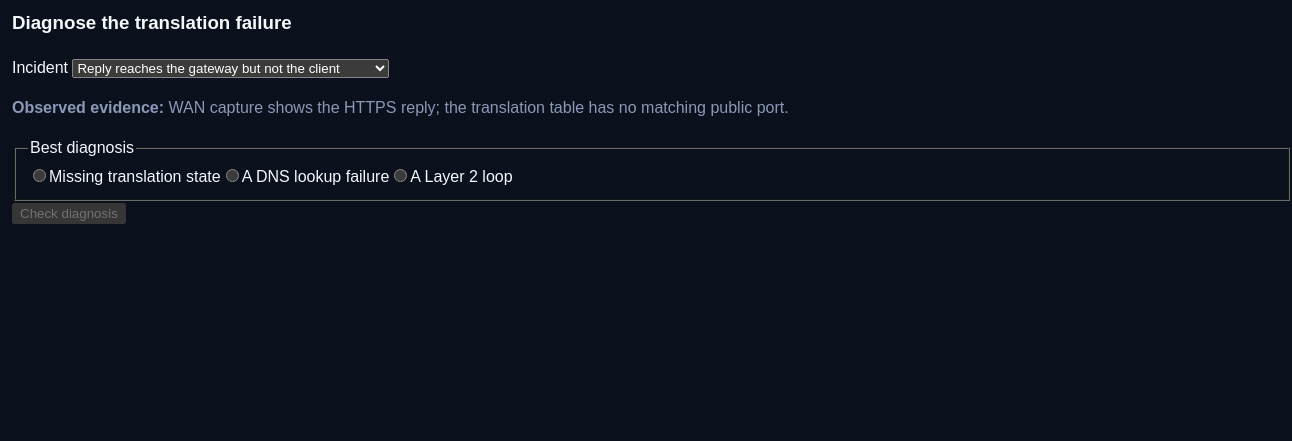
Test: NatTroubleshootingLab › explains evidence, failed assumption, and next verification for any attempted answer
Step 1. Click the radio button labelled "Missing translation state" → (40, 176), box [33,169,46,182]
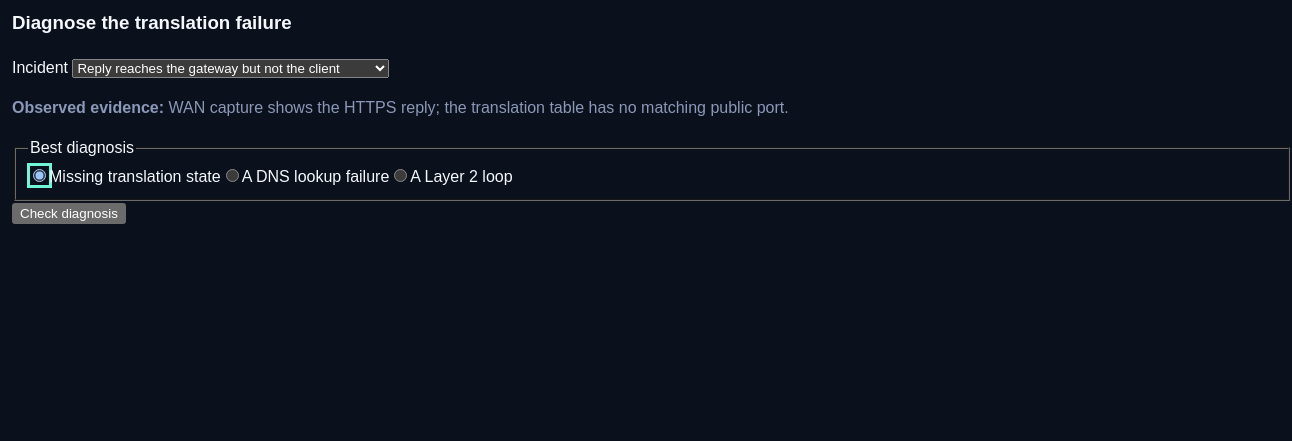
Step 2. Click the button "Check diagnosis" → (69, 214), box [12,203,126,224]
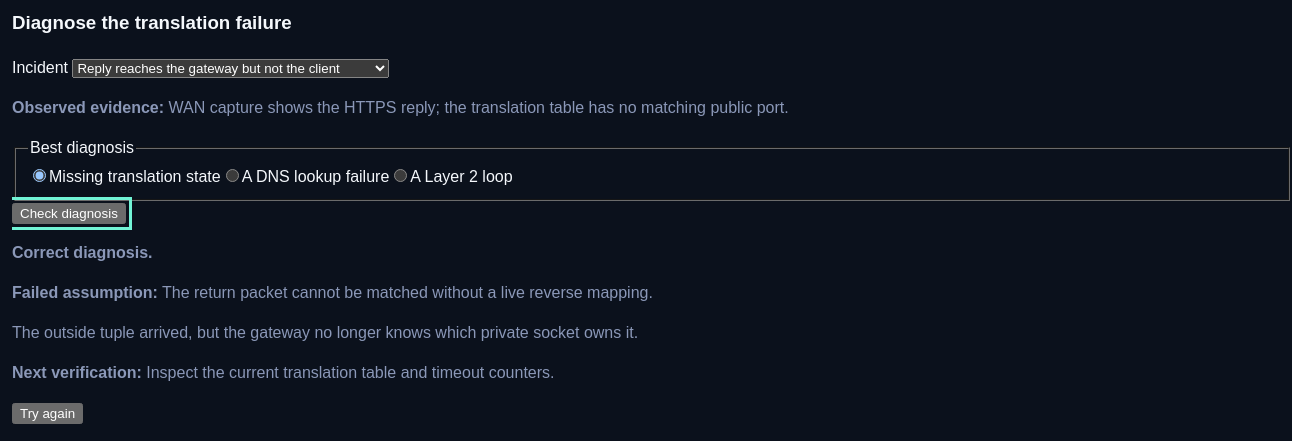
Expected: the message shows "return packet cannot be matched", [162,284,653,301]
Expected: the message shows "next verification", [12,364,142,381]
Step 3. Click the button "Try again" → (48, 414), box [12,403,83,424]
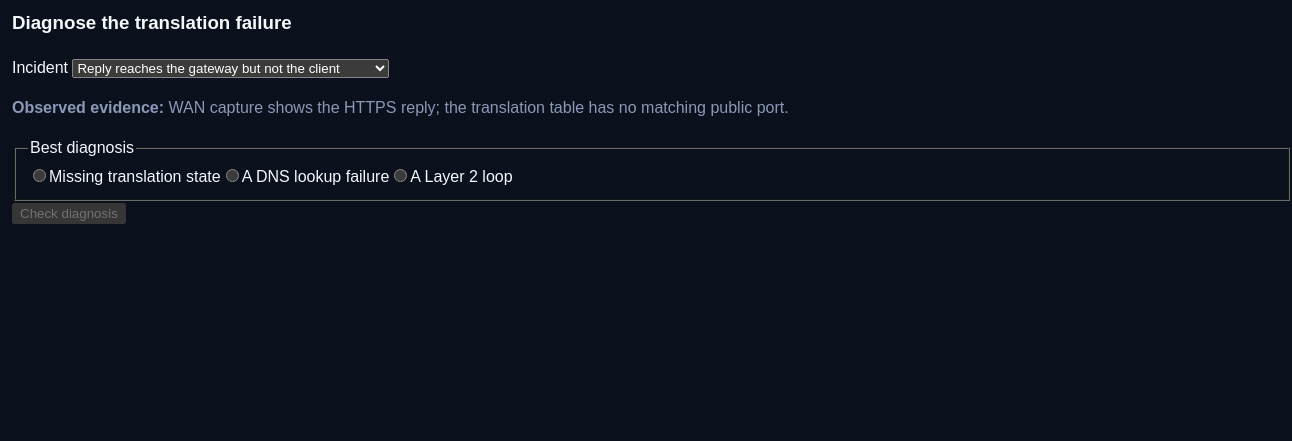
Expected: the message is gone
